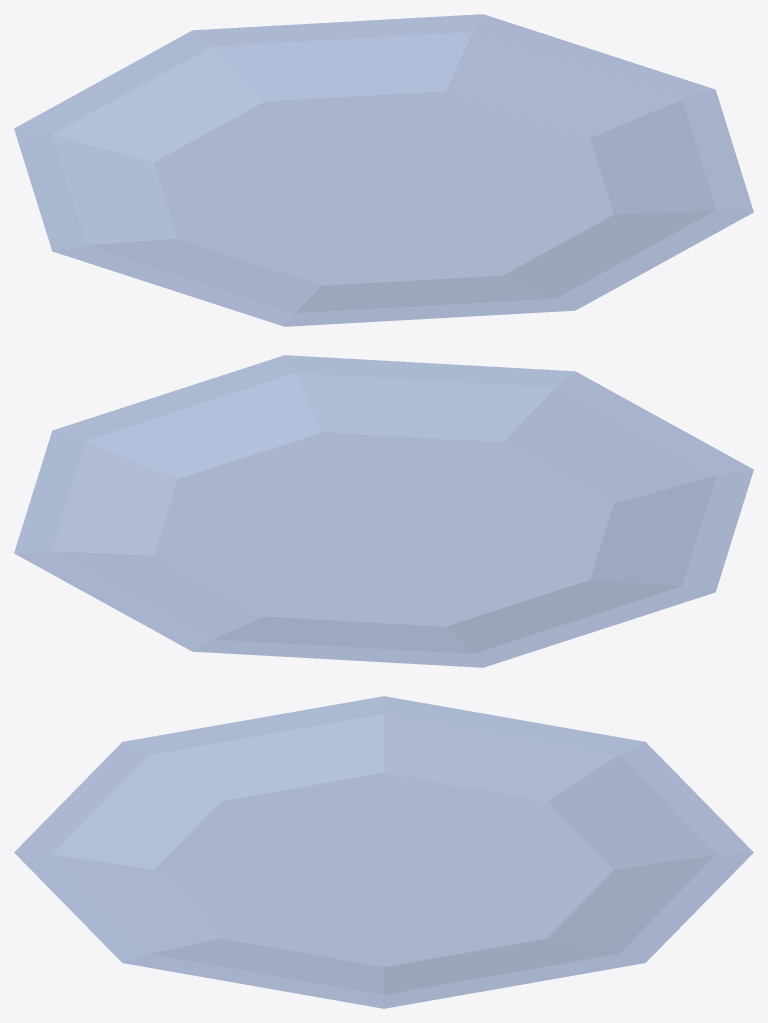
File: PlateBig.fbx
3 views of the same model, one above another, from view 1: azimuth 30°, elevation 25°; view 2: azimuth 150°, elevation 25°; view 3: azimuth 270°, elevation 25° (orthographic). The views are drawn at different scales.
Parts seen in each view (by area): view 1: PlateBig; view 2: PlateBig; view 3: PlateBig.
Boxes of the visible parts, box(x1,y1,x2,y2) form: PlateBig: box(14, 14, 753, 326); PlateBig: box(14, 355, 753, 667); PlateBig: box(14, 696, 753, 1008).
Bounding box in the file's own units: 157 × 6.38 × 157.
